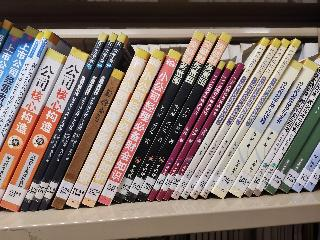book-spine: (198, 38, 303, 199), (135, 31, 232, 203), (180, 37, 282, 200), (189, 37, 291, 200), (124, 30, 218, 205), (172, 35, 271, 200), (37, 32, 127, 213), (19, 32, 108, 215), (112, 30, 205, 204), (30, 32, 118, 212), (0, 46, 91, 214), (66, 47, 150, 210), (81, 48, 166, 209), (211, 56, 305, 200), (98, 48, 182, 208), (227, 57, 320, 200), (146, 60, 227, 202), (164, 62, 246, 202), (156, 58, 236, 201), (49, 67, 126, 211), (0, 46, 67, 205), (242, 66, 320, 199), (252, 78, 320, 198), (0, 27, 51, 148), (262, 94, 320, 194), (0, 31, 44, 134), (0, 24, 40, 115), (0, 25, 24, 83)
